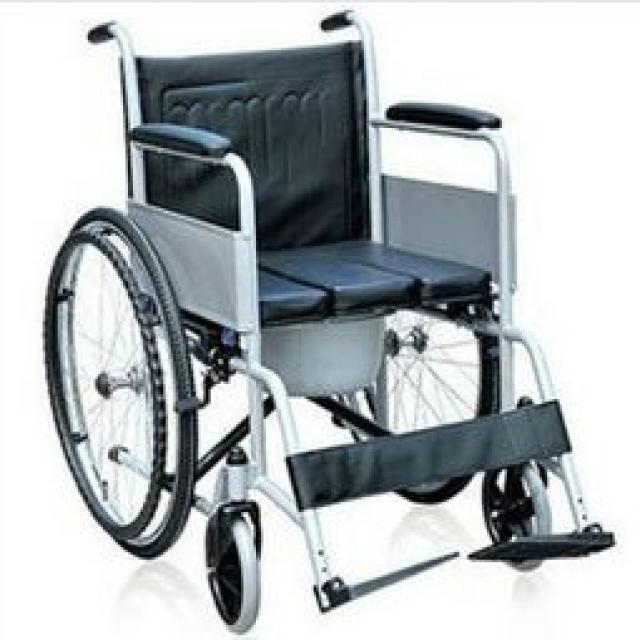wheelchair: (38, 5, 638, 638)
